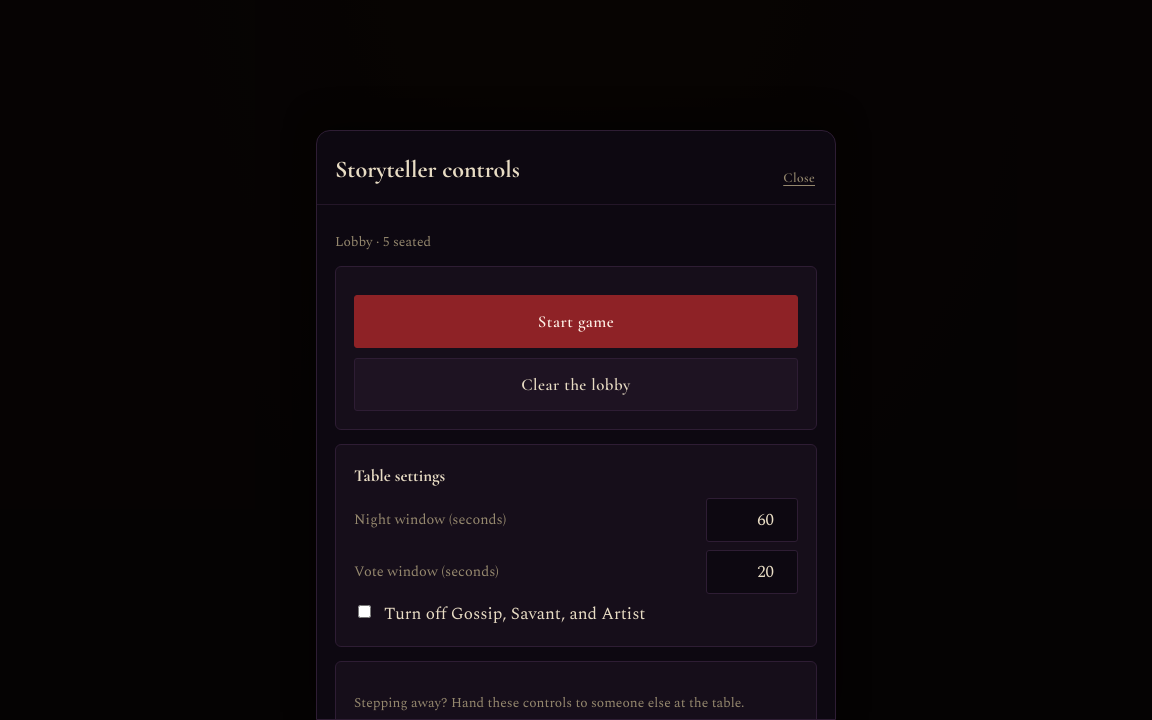
LeaderControlsOverlay › host-code-gated tables › shows a link to enter the host code instead of a raw error
Click the button "Start game" at (576, 322), box x1=354 y1=295 x2=798 y2=348
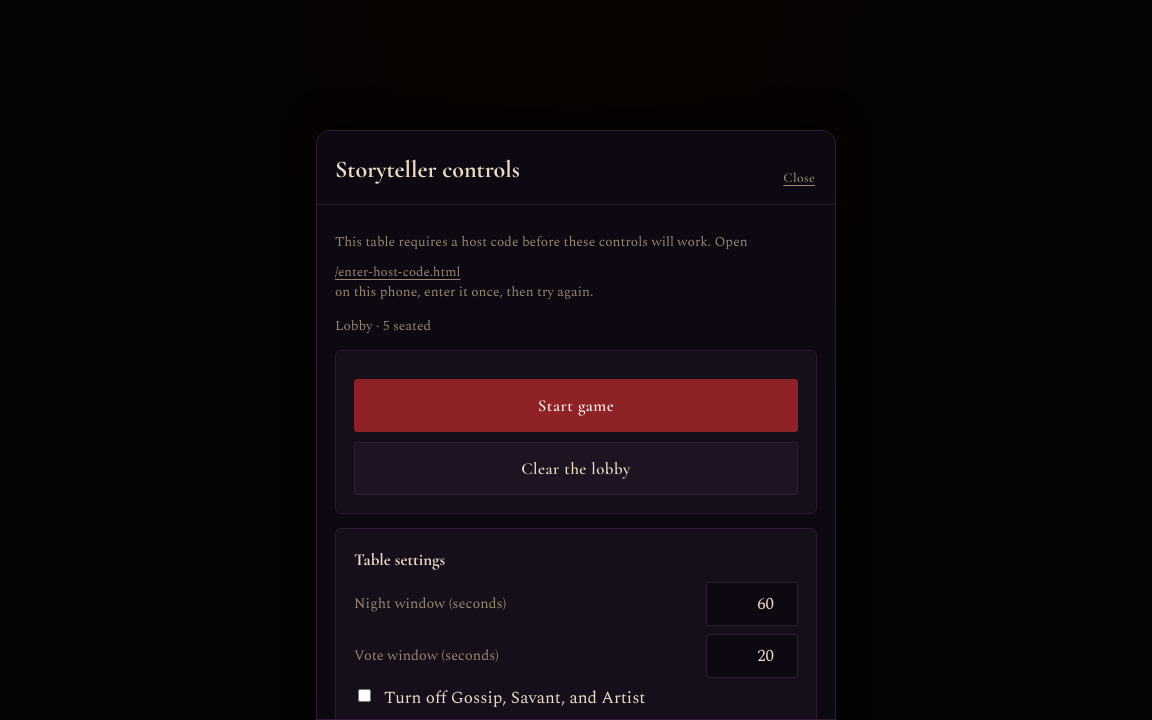
Now the text "requires a host code" is shown, box x1=335 y1=232 x2=748 y2=252
